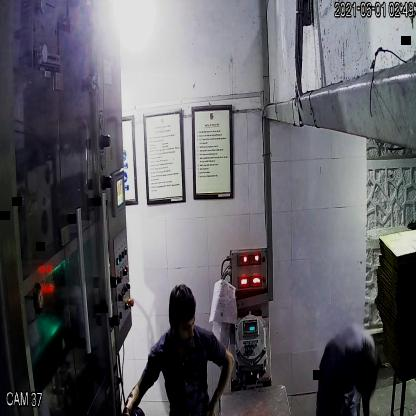no_goggles: (165, 310, 198, 335)
